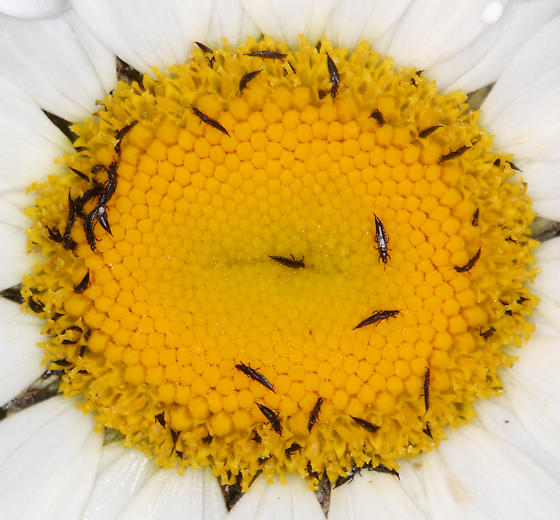Phlaeothripidae: (230, 358, 278, 397), (187, 105, 234, 139), (95, 160, 116, 234), (351, 308, 400, 333), (372, 209, 391, 271), (319, 51, 342, 100), (439, 140, 477, 165), (60, 186, 77, 238), (456, 243, 484, 274), (305, 395, 324, 436), (267, 250, 304, 271), (71, 266, 95, 297), (83, 210, 99, 256), (423, 364, 436, 418), (418, 123, 442, 137)
